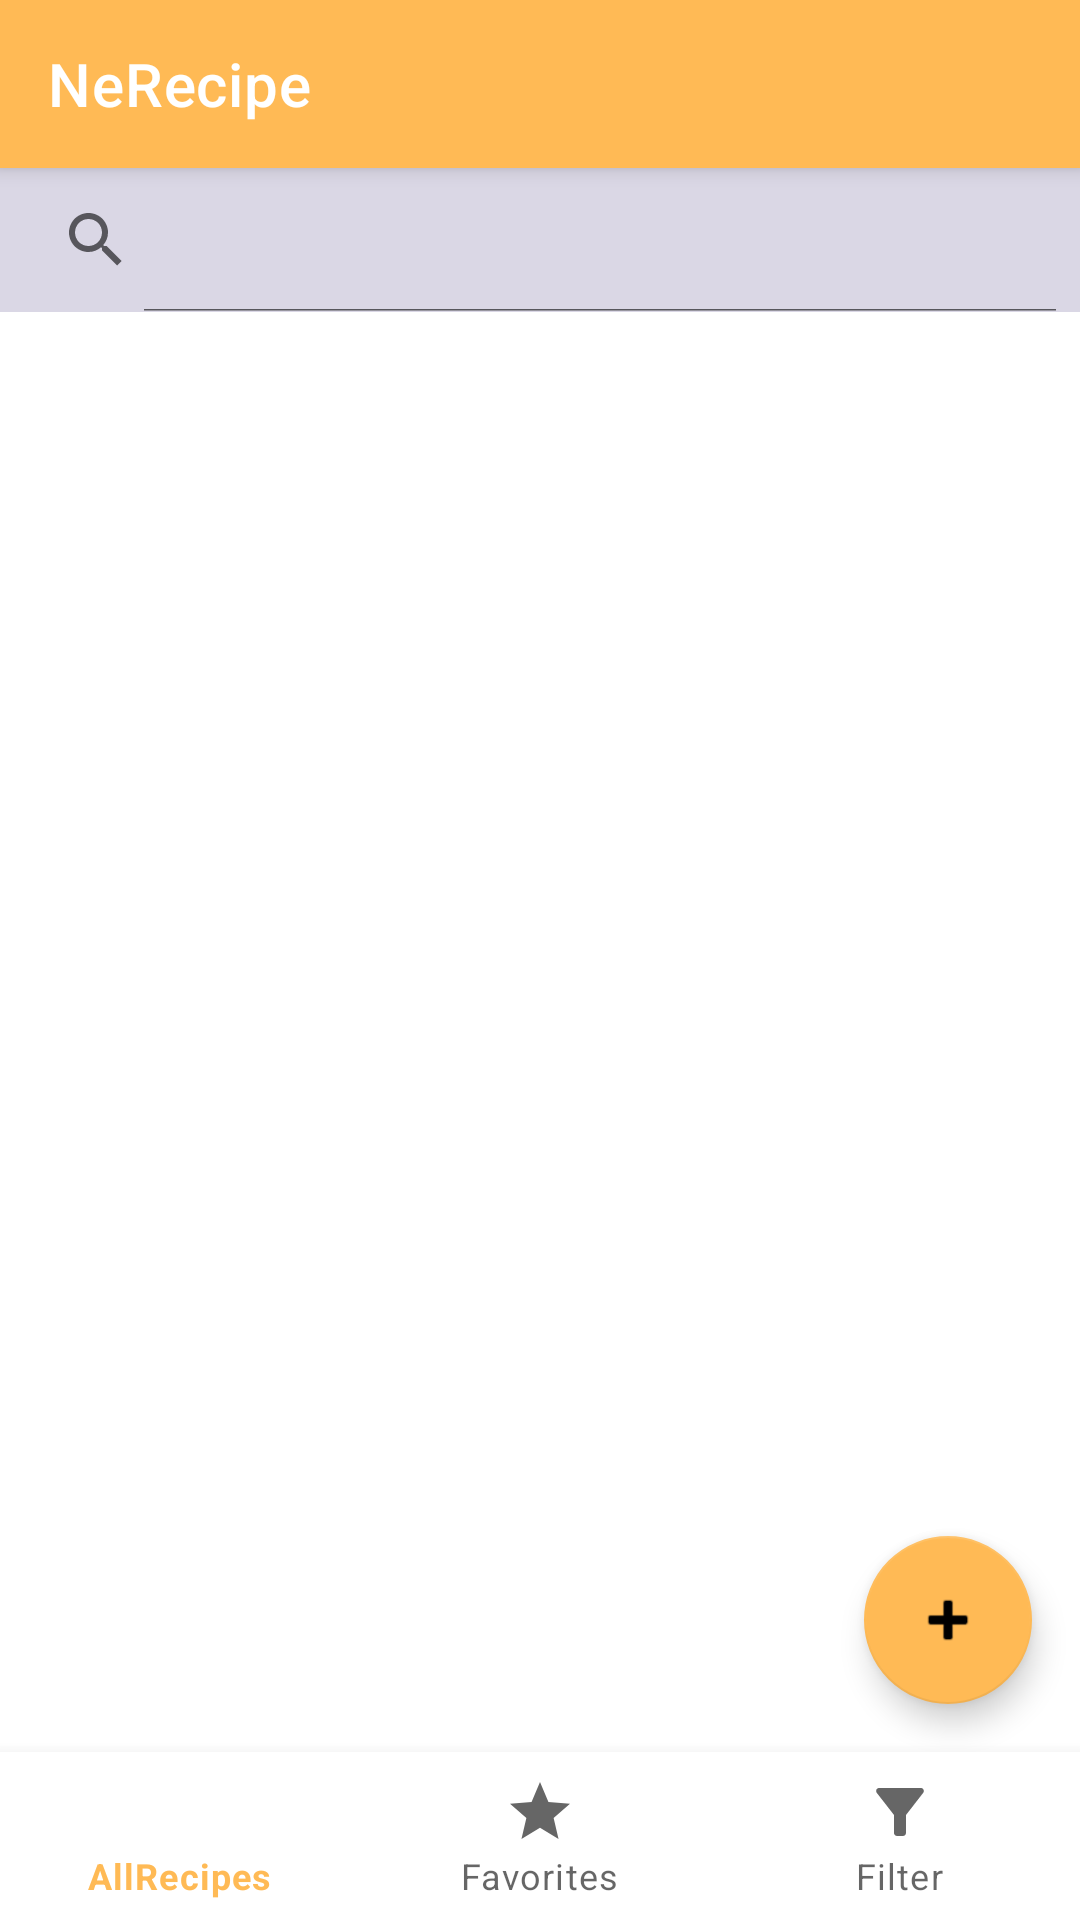

Icon bounding boxes for this 1080w x 1920h phone screenshot, format detection(x1, y1, x2, y2):
add: detection(864, 1536, 1032, 1704)
